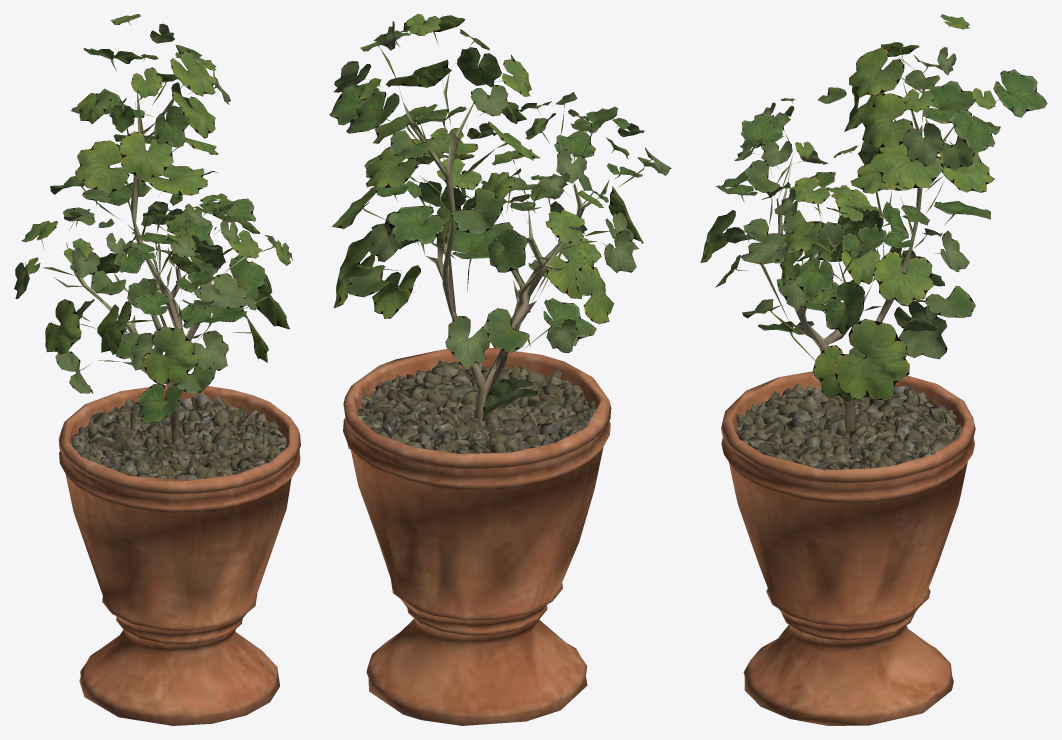
The model's file is potted_plant_01.glb.
The picture shows the model from 3 angles, left to right: view 1: azimuth 30°, elevation 25°; view 2: azimuth 150°, elevation 25°; view 3: azimuth 270°, elevation 25°; orthographic projection. The views are drawn at different scales.
Parts seen in each view (by area): view 1: potted_plant_01_stem, potted_plant_01_leaves; view 2: potted_plant_01_stem, potted_plant_01_leaves; view 3: potted_plant_01_stem, potted_plant_01_leaves.
Boxes of the visible parts, x1,y1,x2,y2 form: potted_plant_01_stem: (53,91,300,725); potted_plant_01_leaves: (14,14,292,423); potted_plant_01_stem: (343,72,611,725); potted_plant_01_leaves: (329,14,671,414); potted_plant_01_stem: (721,81,975,725); potted_plant_01_leaves: (700,14,1047,400).
Size of the model in its own units: 0.5866 by 1.34 by 0.6336.
Materials: 2 (2 with a texture image).
